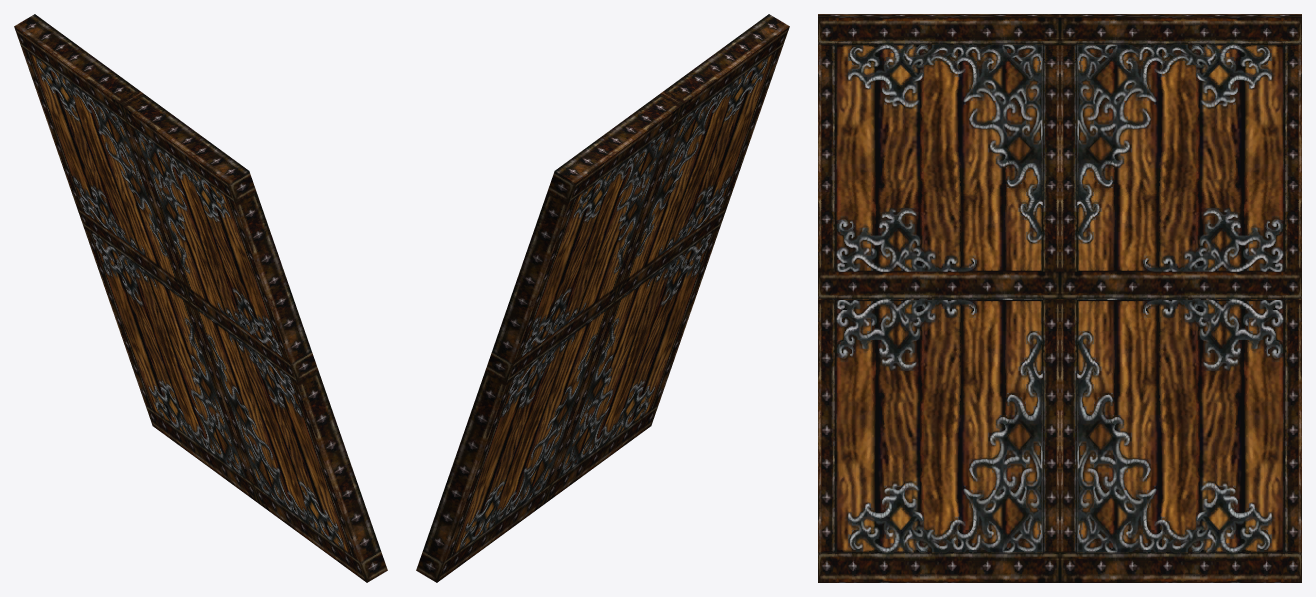
Rendered from ANIMATEDINSTANCES_D_BRIDGE_01__AI.fbx.
The picture shows the model from 3 angles, left to right: view 1: azimuth 30°, elevation 25°; view 2: azimuth 150°, elevation 25°; view 3: azimuth 270°, elevation 25°; orthographic projection. The views are drawn at different scales.
Visible parts, largest first — view 1: ANIMATEDINSTANCES_D_BRIDGE_01__AI; view 2: ANIMATEDINSTANCES_D_BRIDGE_01__AI; view 3: ANIMATEDINSTANCES_D_BRIDGE_01__AI.
Part boxes in pixels (x1,y1,x2,y2): ANIMATEDINSTANCES_D_BRIDGE_01__AI: [14, 14, 387, 582]; ANIMATEDINSTANCES_D_BRIDGE_01__AI: [416, 14, 789, 582]; ANIMATEDINSTANCES_D_BRIDGE_01__AI: [818, 14, 1301, 582].
Bounding box in the file's own units: 14897 × 39344 × 34680.
1 material, 1 textured.
